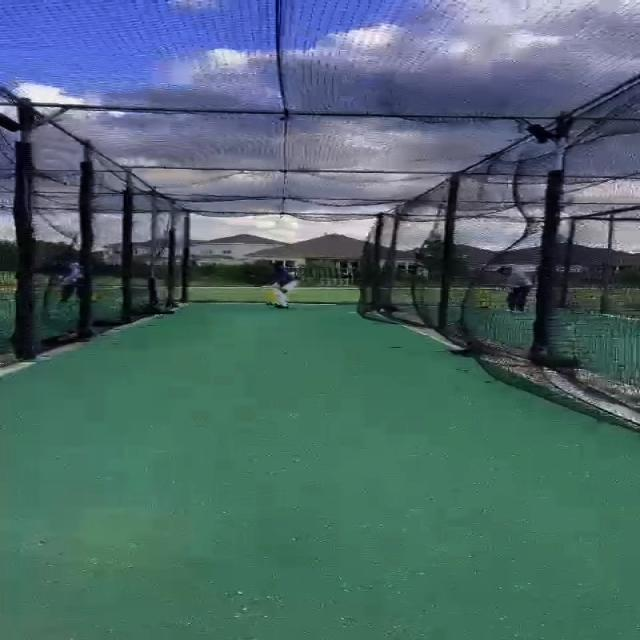batsman: (259, 262, 302, 310)
